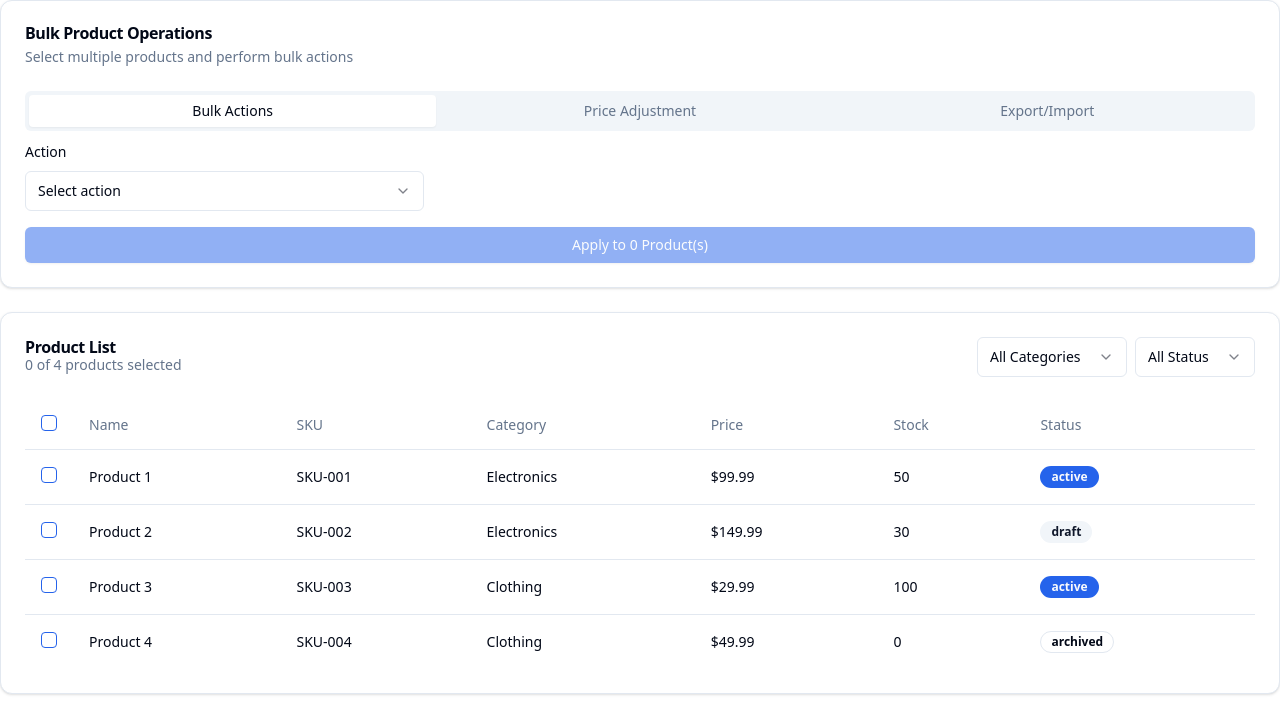
Scenario: BulkProductOperations › Product Selection › should select all products with select all checkbox
Click the checkbox next to "Name" at x=49, y=423, box x1=41 y1=415 x2=57 y2=431
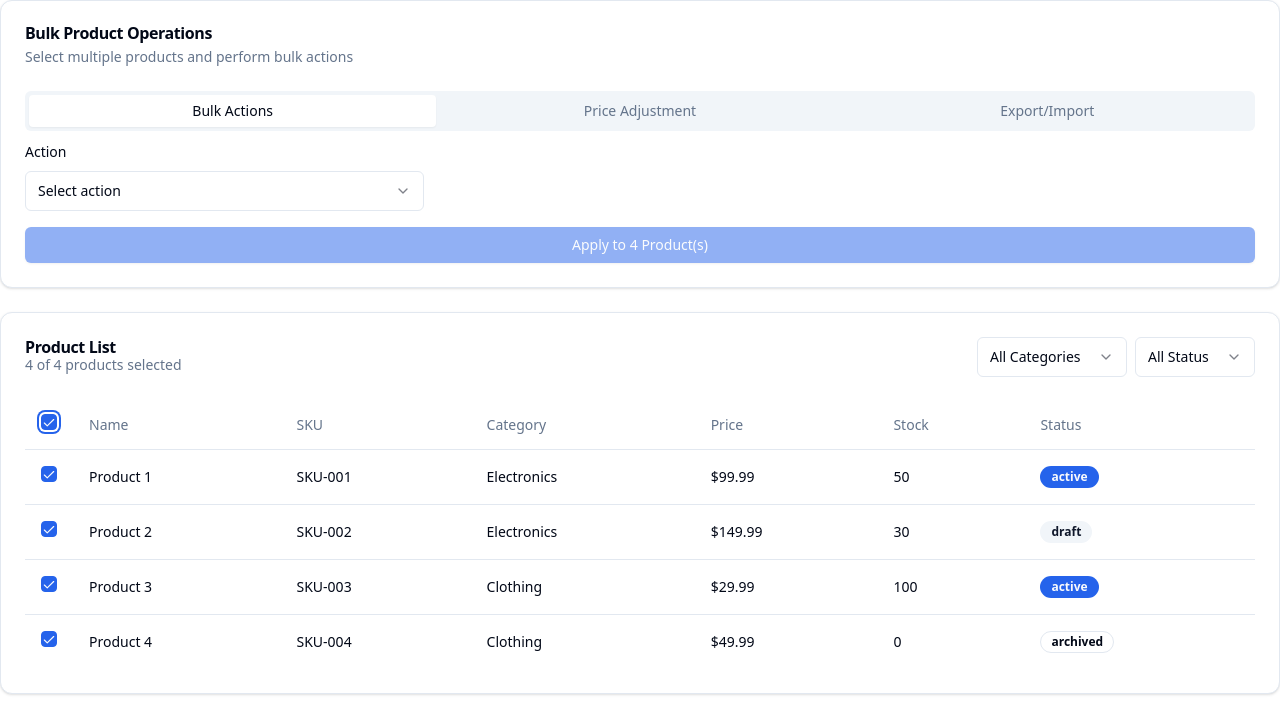
Expected: the text "4 of 4 products selected" is shown, x1=25 y1=355 x2=182 y2=375
